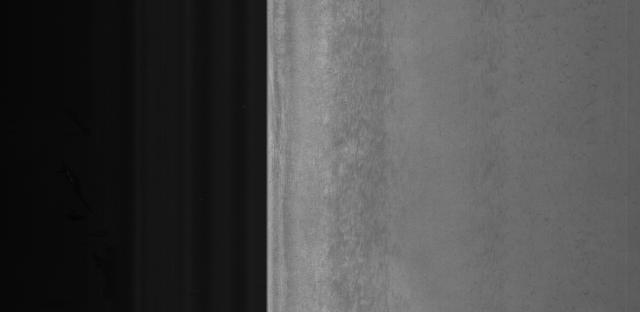silk_spot: (320, 46, 414, 281)
